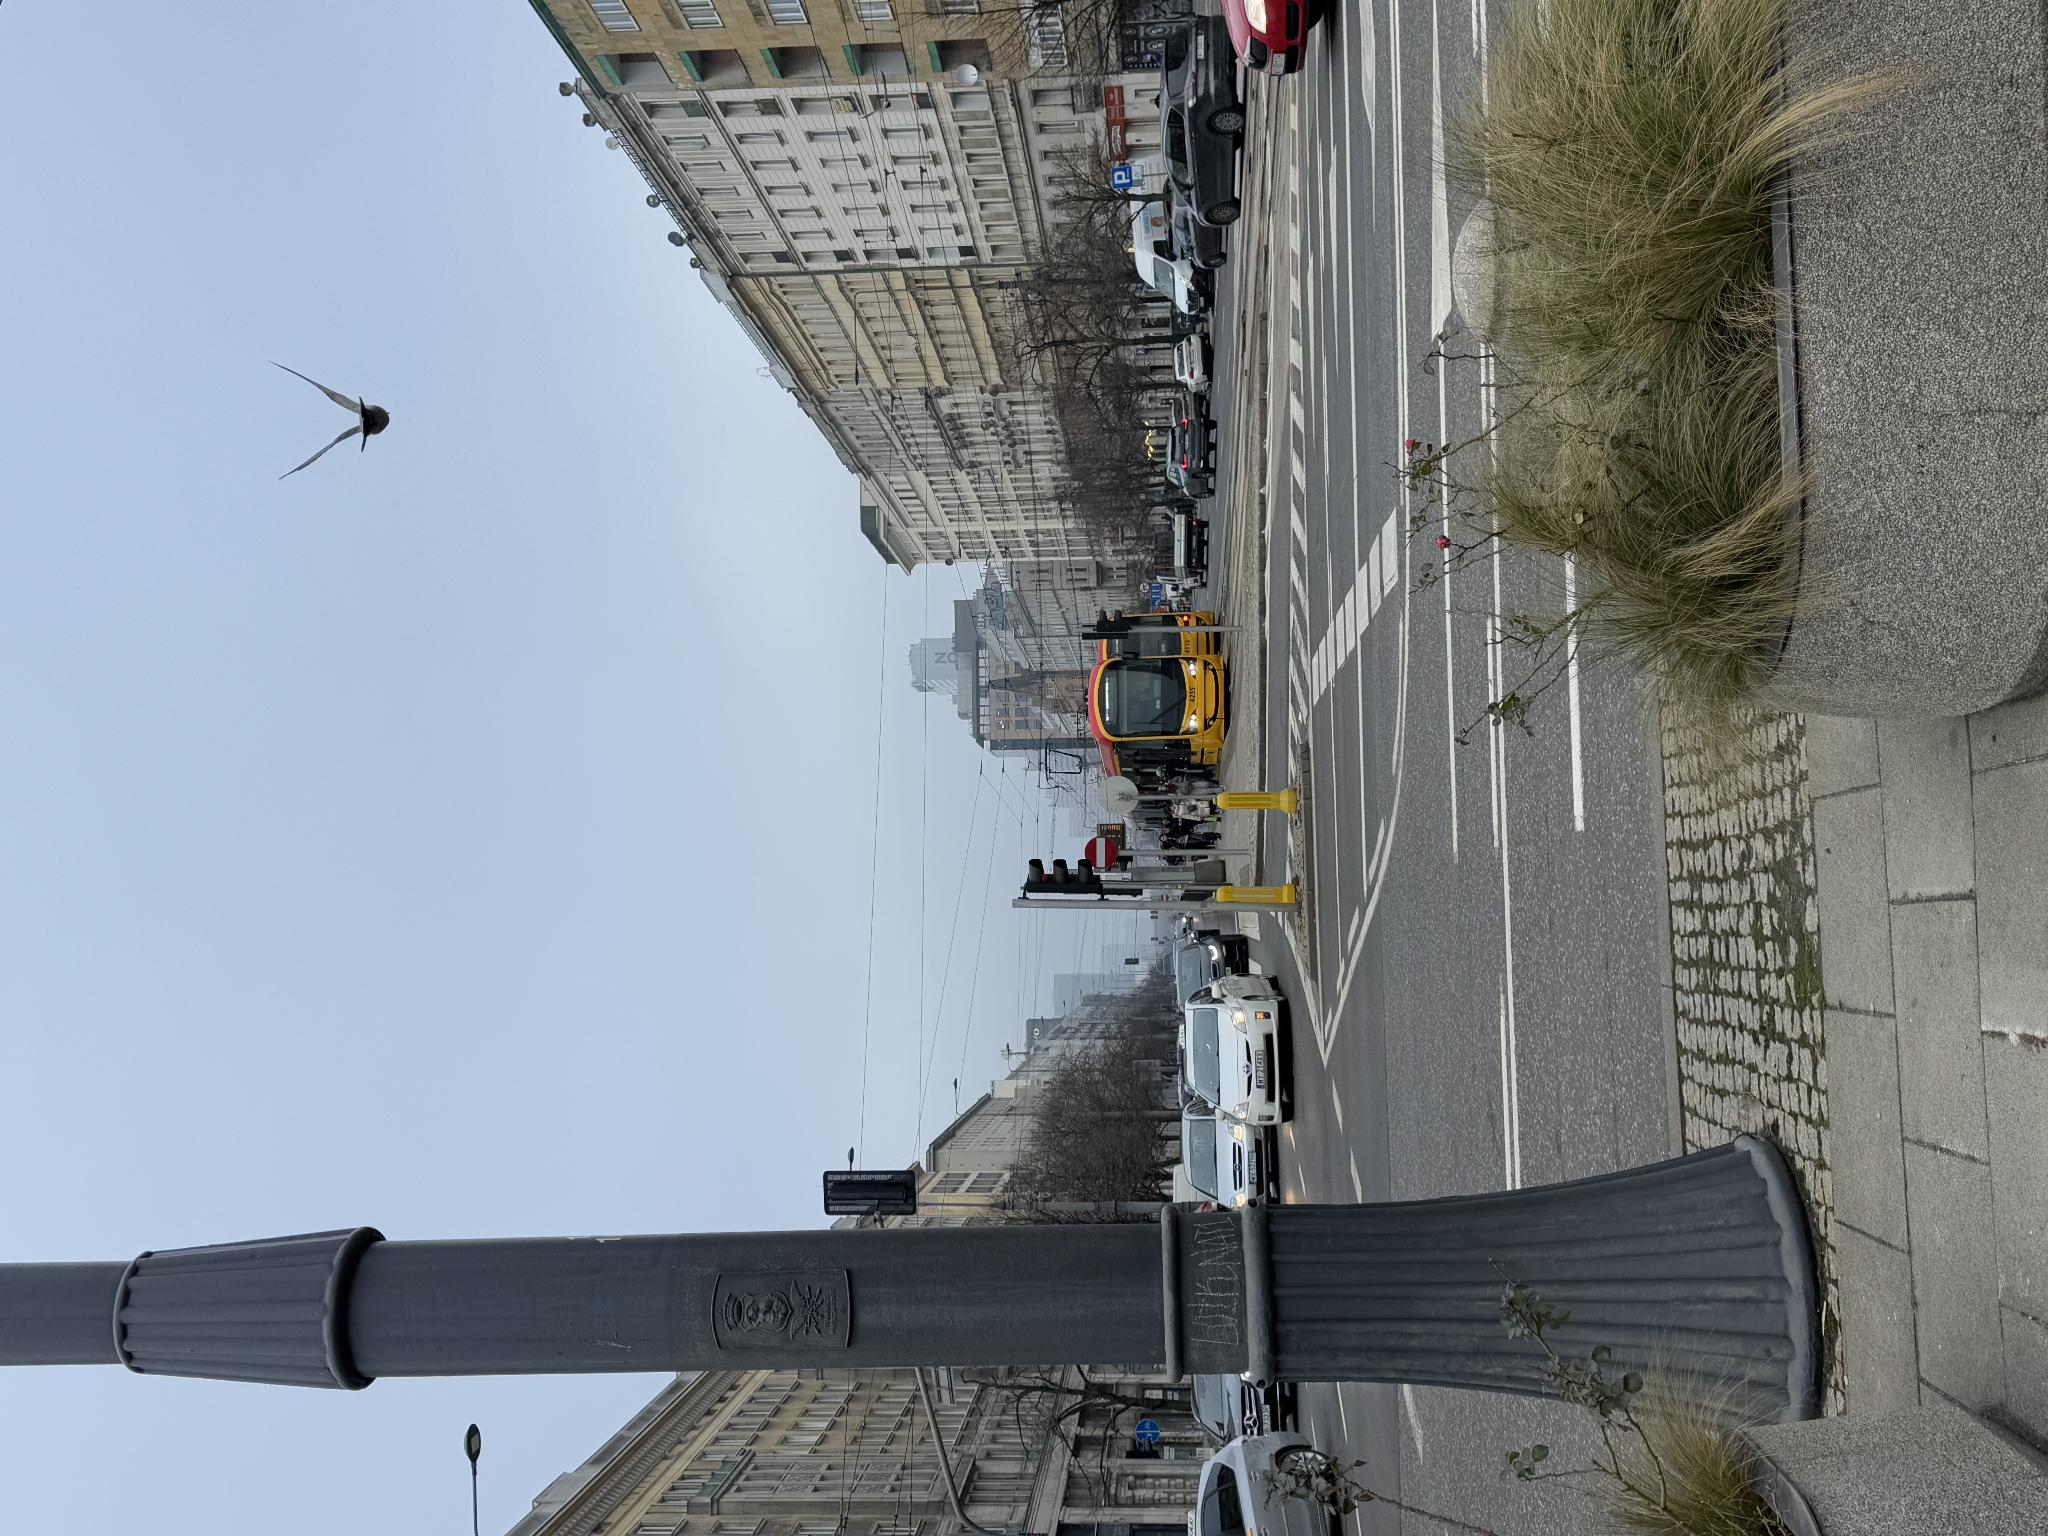information: (1348, 1112, 1371, 1133)
mandatory: (92, 1136, 118, 1160)
other: (1350, 1133, 1371, 1141)
prohibitory: (668, 1084, 700, 1118), (942, 1139, 953, 1149), (635, 1162, 643, 1170)
